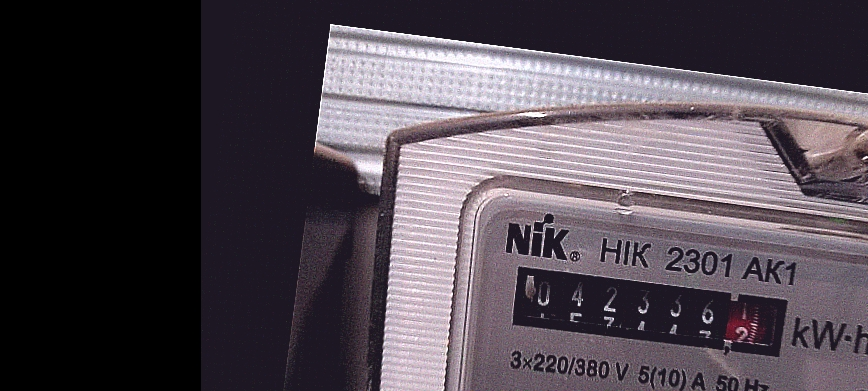0: (534, 278, 553, 308)
1: (737, 298, 751, 321)
2: (601, 282, 621, 313), (732, 323, 750, 343)
3: (665, 288, 685, 320), (633, 286, 652, 315)
4: (568, 277, 588, 308)
6: (699, 294, 719, 326)
screen: (498, 251, 802, 369)
